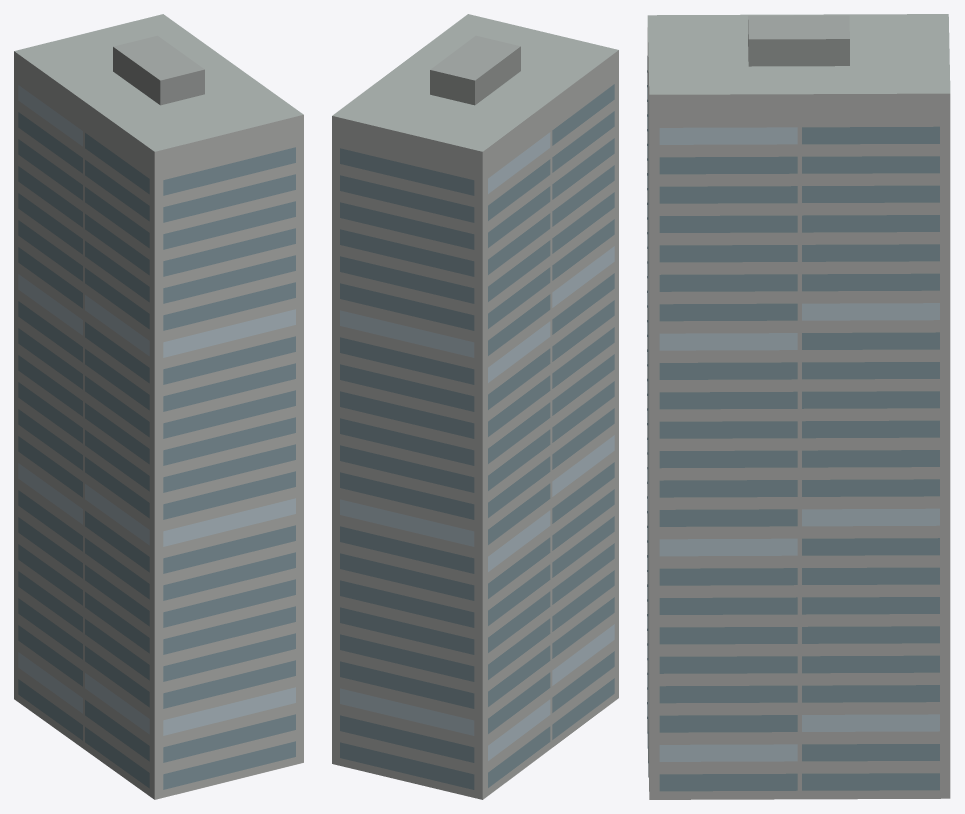
File: fallback-sk-bukhansan-city-106.glb
3 views of the same model, side by side, from view 1: azimuth 30°, elevation 25°; view 2: azimuth 150°, elevation 25°; view 3: azimuth 270°, elevation 25° (orthographic). The views are drawn at different scales.
Parts seen in each view (by area): view 1: fallback-sk-bukhansan-city-106; view 2: fallback-sk-bukhansan-city-106; view 3: fallback-sk-bukhansan-city-106.
Part boxes in pixels (left/top/right/bottom): fallback-sk-bukhansan-city-106: left=14, top=14, right=303, bottom=799; fallback-sk-bukhansan-city-106: left=332, top=14, right=618, bottom=799; fallback-sk-bukhansan-city-106: left=647, top=14, right=950, bottom=799.
Size of the model in its own units: 15.46 by 65 by 24.44.
